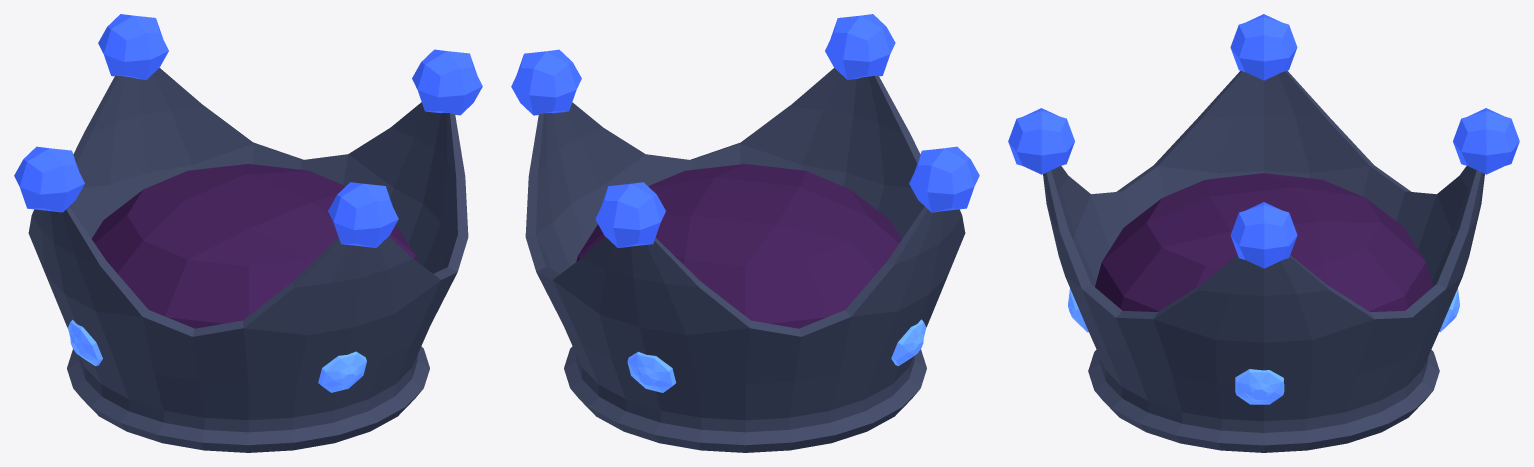
The model's file is Cosmetic_TwilightCrown.glb.
3 renders of one model, left to right at view 1: azimuth 30°, elevation 25°; view 2: azimuth 150°, elevation 25°; view 3: azimuth 270°, elevation 25°, orthographic. The views are drawn at different scales.
Parts seen in each view (by area): view 1: GC_TwilightCrown; view 2: GC_TwilightCrown; view 3: GC_TwilightCrown.
Part boxes in pixels (x1=…): GC_TwilightCrown: x1=14, y1=14, x2=482, y2=452; GC_TwilightCrown: x1=511, y1=14, x2=979, y2=452; GC_TwilightCrown: x1=1008, y1=14, x2=1519, y2=452.
Bounding box in the file's own units: 0.5497 × 0.3217 × 0.5497.
